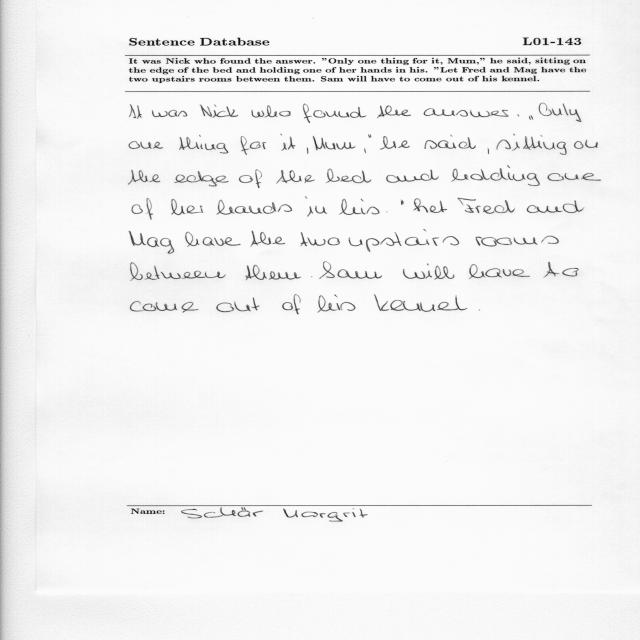word: (349, 229, 460, 252), (451, 165, 540, 186), (131, 262, 226, 281), (497, 134, 567, 155), (303, 104, 366, 123), (216, 200, 292, 215), (374, 294, 435, 312), (319, 262, 382, 279), (129, 231, 174, 254), (179, 135, 228, 154), (475, 236, 559, 247), (469, 264, 530, 279), (458, 198, 515, 214), (185, 232, 241, 247), (246, 265, 302, 280), (174, 171, 229, 186), (539, 103, 582, 122), (403, 264, 454, 280), (131, 301, 199, 313), (424, 108, 509, 117), (527, 200, 584, 213), (424, 135, 476, 149), (386, 170, 439, 183), (318, 295, 356, 313), (339, 199, 379, 215), (327, 169, 372, 183), (217, 298, 260, 312), (313, 136, 355, 150), (251, 231, 286, 247), (300, 232, 340, 246), (544, 262, 579, 277), (171, 199, 203, 215), (413, 198, 447, 213), (252, 105, 291, 118), (276, 170, 315, 183), (200, 105, 238, 118), (129, 170, 161, 185), (241, 136, 266, 155), (437, 296, 467, 311), (132, 198, 153, 219), (305, 197, 327, 217), (239, 169, 262, 188), (547, 173, 601, 181), (380, 136, 410, 150), (377, 106, 411, 118), (282, 295, 301, 315), (129, 141, 163, 149), (280, 134, 295, 151), (152, 110, 187, 117), (574, 140, 598, 149), (130, 104, 142, 119), (529, 115, 533, 120), (368, 134, 371, 138), (487, 148, 489, 154), (401, 200, 403, 205), (364, 149, 366, 153), (307, 147, 308, 154), (518, 114, 520, 117), (386, 212, 388, 213), (311, 276, 312, 277)
